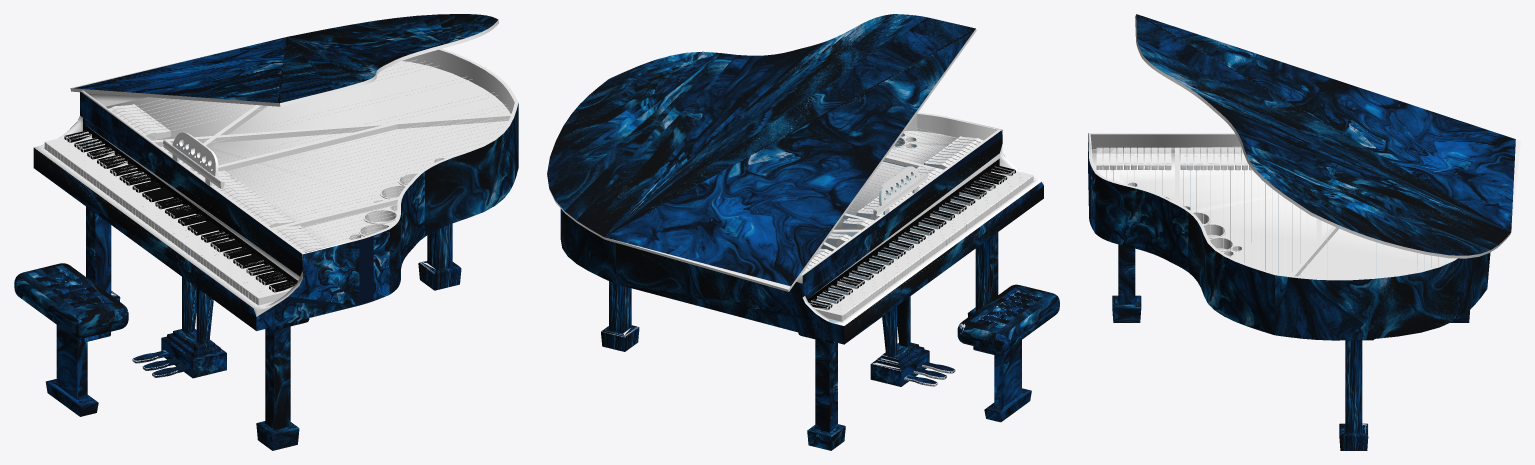
Rendered from piano3.glb.
3 views of the same model, side by side, from view 1: azimuth 30°, elevation 25°; view 2: azimuth 150°, elevation 25°; view 3: azimuth 270°, elevation 25° (orthographic). The views are drawn at different scales.
Parts seen in each view (by area): view 1: BabyGrandPiano1; view 2: BabyGrandPiano1; view 3: BabyGrandPiano1.
Part boxes in pixels (left/top/right/bottom): BabyGrandPiano1: left=14, top=14, right=518, bottom=450; BabyGrandPiano1: left=547, top=14, right=1059, bottom=450; BabyGrandPiano1: left=1088, top=14, right=1520, bottom=450.
Bounding box in the file's own units: 2.35 × 1.57 × 2.01.
Materials: 6 (1 with a texture image).
